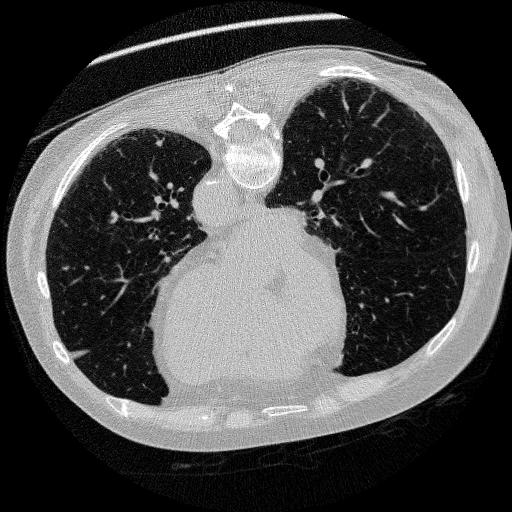nodule: (153, 137, 166, 150)
